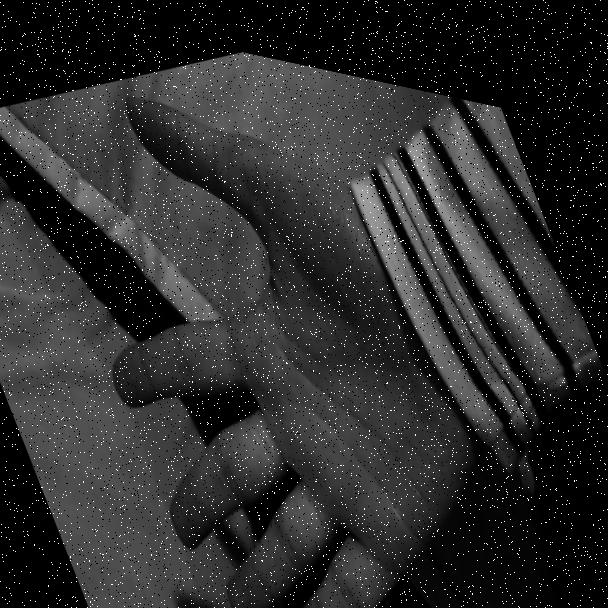five: (0, 1, 562, 608)
